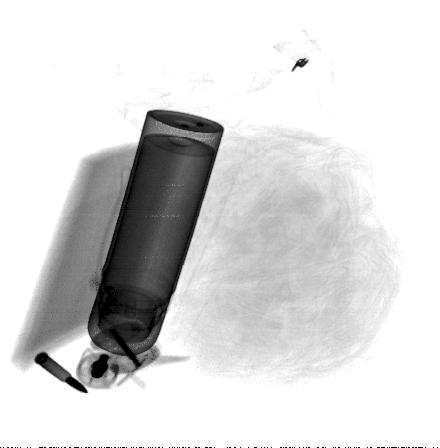Bullet: (33, 351, 89, 395)
